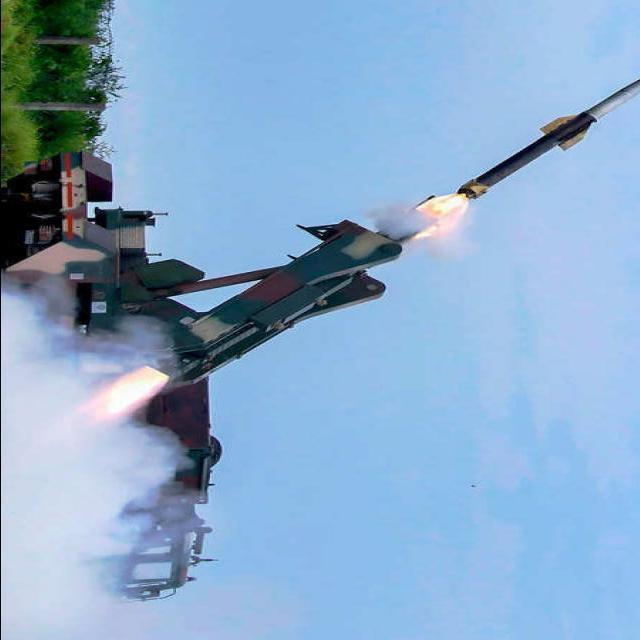missile: (476, 78, 640, 205)
